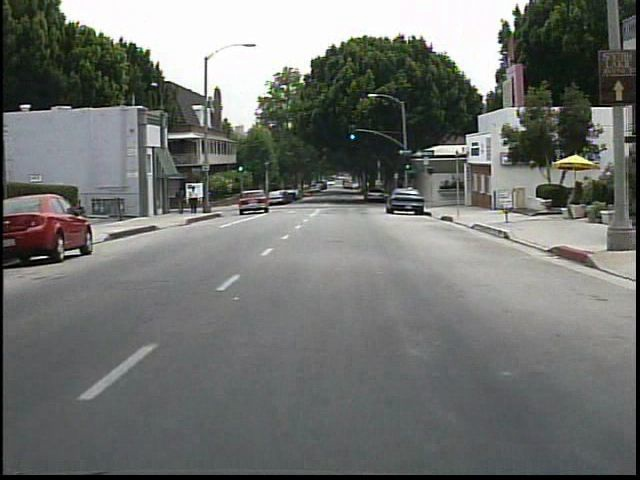person: (176, 184, 189, 216), (189, 186, 201, 216)
